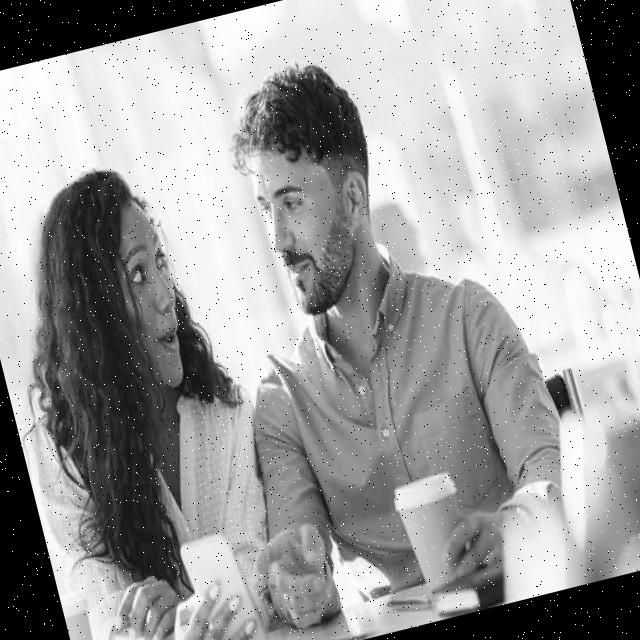Surprised: (97, 196, 199, 395)
